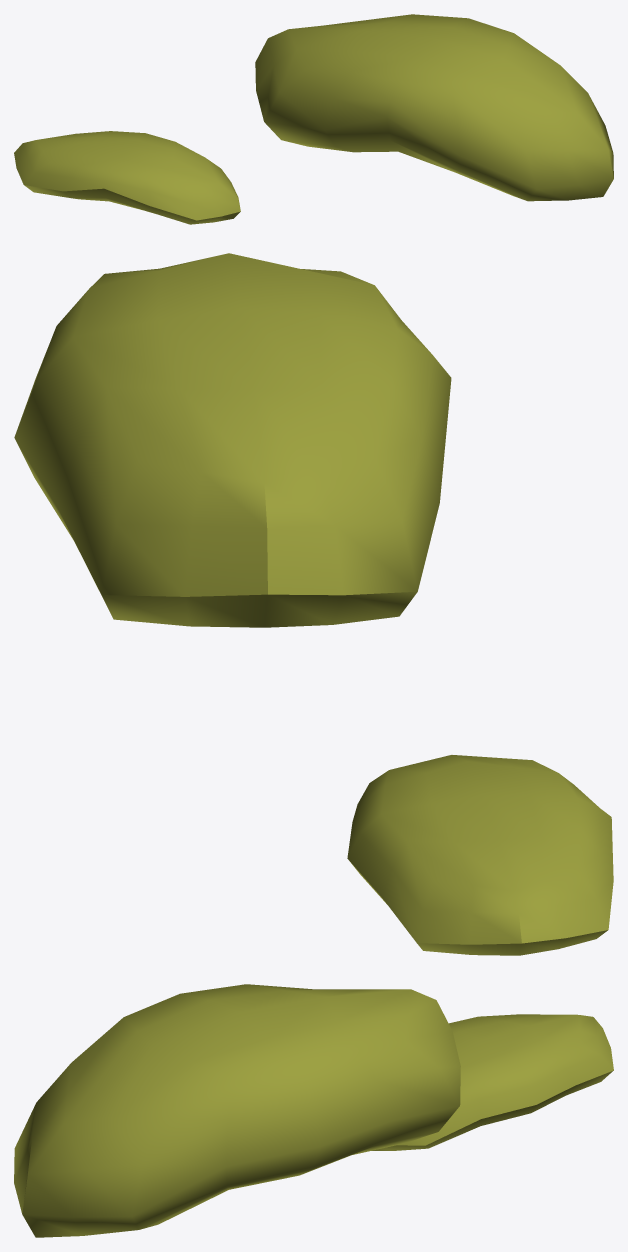
The model's file is Feuillage1.fbx.
3 views of the same model, one above another, from view 1: azimuth 30°, elevation 25°; view 2: azimuth 150°, elevation 25°; view 3: azimuth 270°, elevation 25° (orthographic). The views are drawn at different scales.
Parts seen in each view (by area): view 1: Cylinder.096, Cylinder.094; view 2: Cylinder.096, Cylinder.094; view 3: Cylinder.096, Cylinder.094.
Boxes of the visible parts, x1,y1,x2,y2 form: Cylinder.096: (255,14,613,201); Cylinder.094: (14,131,240,224); Cylinder.096: (14,253,451,627); Cylinder.094: (347,755,613,955); Cylinder.096: (14,984,460,1237); Cylinder.094: (372,1014,613,1150).
Bounding box in the file's own units: 360 × 143 × 332.
